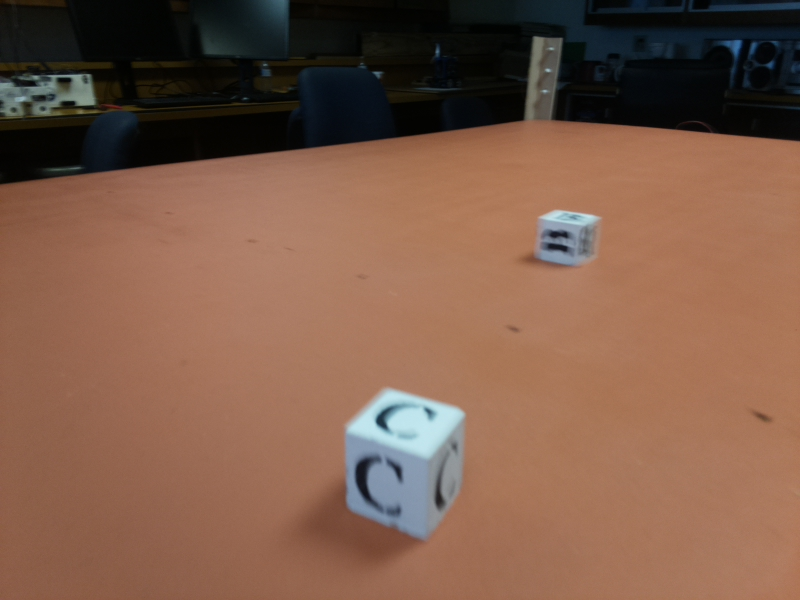blockB: (541, 206, 603, 269)
blockC: (348, 393, 468, 533)
corner: (526, 36, 565, 120)
